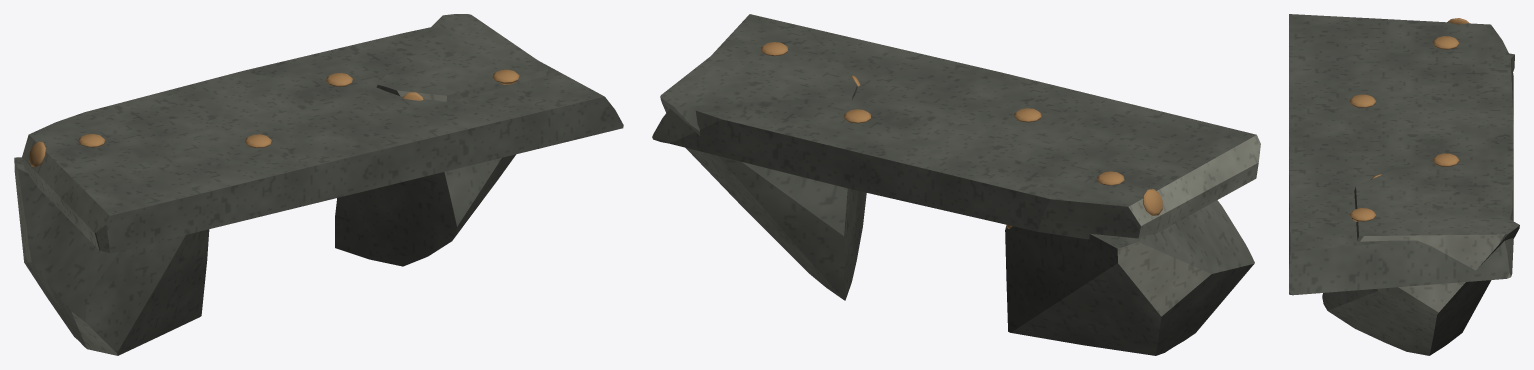
3 renders of one model, left to right at view 1: azimuth 30°, elevation 25°; view 2: azimuth 150°, elevation 25°; view 3: azimuth 270°, elevation 25°, orthographic. The views are drawn at different scales.
Visible parts, largest first — view 1: weathered mineral, fresh chipped mineral, peened pin (×2); view 2: weathered mineral, fresh chipped mineral, peened pin (×2); view 3: weathered mineral, fresh chipped mineral, peened pin.
Part boxes in pixels (x1=…): weathered mineral: x1=14, y1=14, x2=623, y2=355; fresh chipped mineral: x1=14, y1=90, x2=446, y2=355; peened pin (×2): x1=29, y1=69, x2=519, y2=167; weathered mineral: x1=653, y1=14, x2=1258, y2=355; fresh chipped mineral: x1=652, y1=135, x2=1260, y2=316; peened pin (×2): x1=761, y1=42, x2=1162, y2=228; weathered mineral: x1=1289, y1=14, x2=1519, y2=355; fresh chipped mineral: x1=1289, y1=234, x2=1510, y2=314; peened pin: x1=1349, y1=36, x2=1459, y2=221.
Bounding box in the file's own units: 1.12 × 0.3676 × 0.4316.
3 materials, 2 textured.
